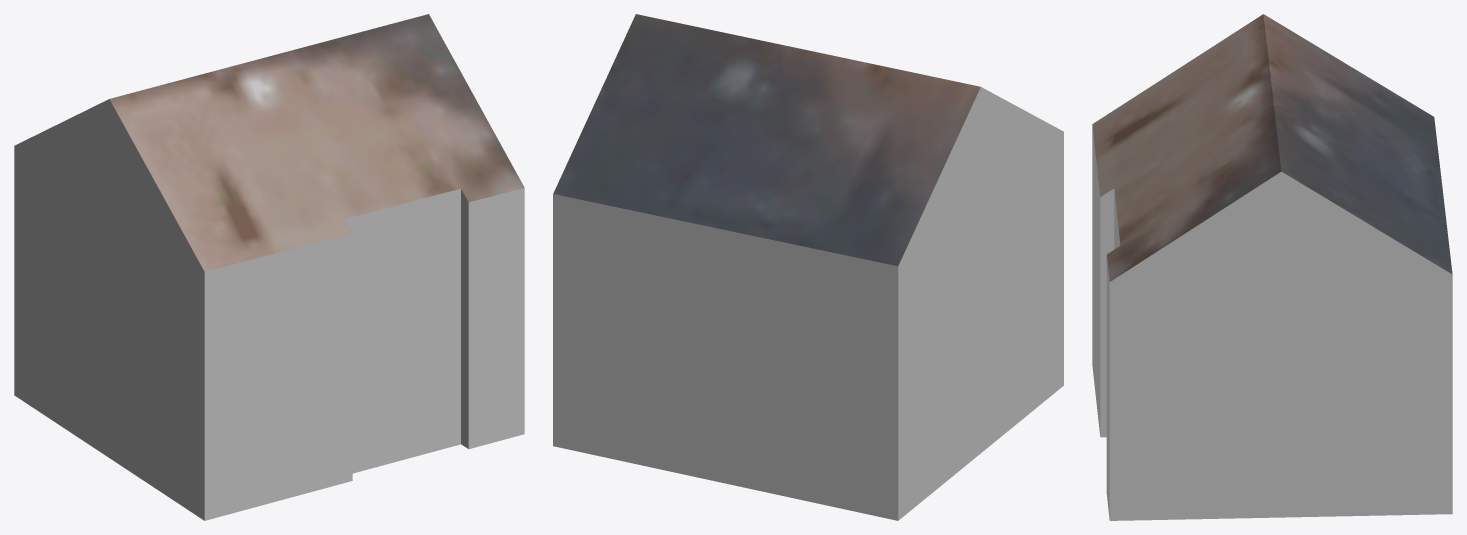
File: DEBW_0010007Txd8.gltf
The picture shows the model from 3 angles, left to right: view 1: azimuth 30°, elevation 25°; view 2: azimuth 150°, elevation 25°; view 3: azimuth 270°, elevation 25°; orthographic projection. The views are drawn at different scales.
Parts seen in each view (by area): view 1: Z_UP; view 2: Z_UP; view 3: Z_UP.
Boxes of the visible parts, bbox=[...] form: Z_UP: bbox=[14, 14, 524, 520]; Z_UP: bbox=[553, 14, 1063, 520]; Z_UP: bbox=[1092, 14, 1452, 520].
Bounding box in the file's own units: 10.69 × 10.69 × 10.03.
2 materials, 1 textured.
